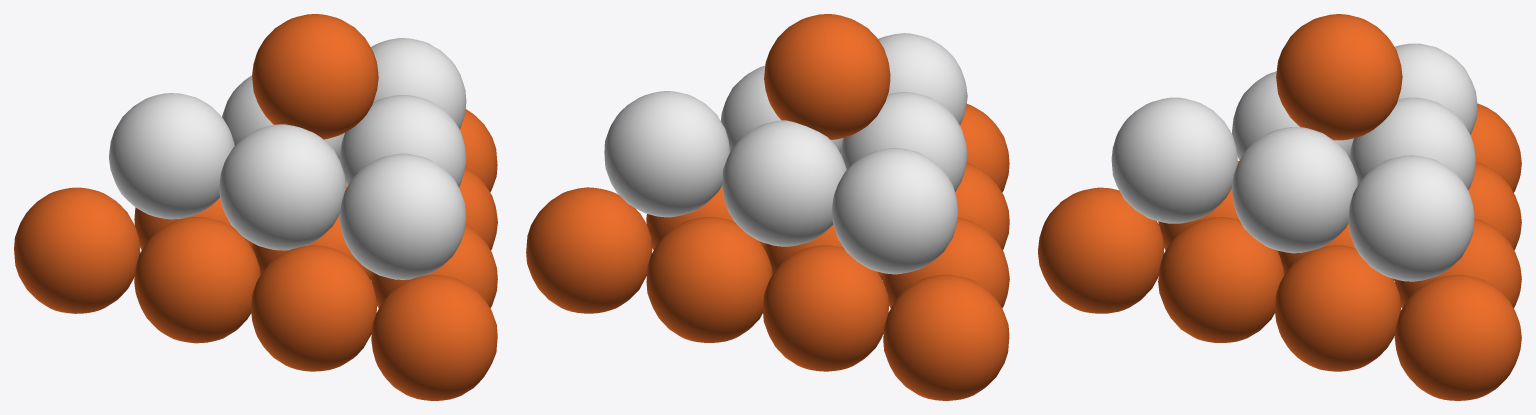
Rendered from estructura hexagonal compacta ABA.obj.glb.
3 views of the same model, side by side, from view 1: azimuth 30°, elevation 25°; view 2: azimuth 150°, elevation 25°; view 3: azimuth 270°, elevation 25° (orthographic).
Parts seen in each view (by area): view 1: Sphere.439_Sphere.001, Sphere.446_Sphere.001, Sphere.450_Sphere.001, Sphere.441_Sphere.001, Sphere.451_Sphere.001, Sphere.442_Sphere.001, Sphere.454_Sphere.001, Sphere.452_Sphere.001, Sphere.448_Sphere.001, Sphere.449_Sphere.001, Sphere.435_Sphere.001, Sphere.453_Sphere.001 (+4 smaller); view 2: Sphere.446_Sphere.001, Sphere.452_Sphere.001, Sphere.443_Sphere.001, Sphere.449_Sphere.001, Sphere.445_Sphere.001, Sphere.444_Sphere.001, Sphere.454_Sphere.001, Sphere.453_Sphere.001, Sphere.451_Sphere.001, Sphere.450_Sphere.001, Sphere.442_Sphere.001, Sphere.441_Sphere.001 (+4 smaller); view 3: Sphere.443_Sphere.001, Sphere.449_Sphere.001, Sphere.450_Sphere.001, Sphere.454_Sphere.001, Sphere.448_Sphere.001, Sphere.439_Sphere.001, Sphere.438_Sphere.001, Sphere.435_Sphere.001, Sphere.453_Sphere.001, Sphere.452_Sphere.001, Sphere.444_Sphere.001, Sphere.451_Sphere.001 (+4 smaller).
Part boxes in pixels (left/top/right/bottom): Sphere.439_Sphere.001: left=371, top=274, right=497, bottom=400; Sphere.446_Sphere.001: left=14, top=187, right=140, bottom=313; Sphere.450_Sphere.001: left=339, top=153, right=466, bottom=279; Sphere.441_Sphere.001: left=251, top=245, right=376, bottom=371; Sphere.451_Sphere.001: left=219, top=124, right=345, bottom=250; Sphere.442_Sphere.001: left=134, top=217, right=260, bottom=343; Sphere.454_Sphere.001: left=252, top=14, right=378, bottom=139; Sphere.452_Sphere.001: left=109, top=93, right=234, bottom=219; Sphere.448_Sphere.001: left=339, top=95, right=466, bottom=186; Sphere.449_Sphere.001: left=371, top=38, right=466, bottom=129; Sphere.435_Sphere.001: left=371, top=224, right=497, bottom=308; Sphere.453_Sphere.001: left=222, top=75, right=344, bottom=159; Sphere.446_Sphere.001: left=883, top=274, right=1009, bottom=400; Sphere.452_Sphere.001: left=831, top=148, right=958, bottom=274; Sphere.443_Sphere.001: left=526, top=187, right=652, bottom=313; Sphere.449_Sphere.001: left=604, top=91, right=729, bottom=217; Sphere.445_Sphere.001: left=763, top=245, right=888, bottom=371; Sphere.444_Sphere.001: left=646, top=216, right=772, bottom=342; Sphere.454_Sphere.001: left=764, top=14, right=890, bottom=139; Sphere.453_Sphere.001: left=722, top=120, right=846, bottom=246; Sphere.451_Sphere.001: left=841, top=92, right=967, bottom=191; Sphere.450_Sphere.001: left=878, top=33, right=967, bottom=124; Sphere.442_Sphere.001: left=882, top=217, right=1009, bottom=308; Sphere.441_Sphere.001: left=955, top=162, right=1009, bottom=250; Sphere.443_Sphere.001: left=1394, top=274, right=1521, bottom=400; Sphere.449_Sphere.001: left=1348, top=155, right=1474, bottom=281; Sphere.450_Sphere.001: left=1111, top=97, right=1237, bottom=223; Sphere.454_Sphere.001: left=1276, top=14, right=1402, bottom=140; Sphere.448_Sphere.001: left=1232, top=127, right=1357, bottom=253; Sphere.439_Sphere.001: left=1038, top=187, right=1163, bottom=313; Sphere.438_Sphere.001: left=1274, top=245, right=1401, bottom=371; Sphere.435_Sphere.001: left=1158, top=217, right=1284, bottom=342; Sphere.453_Sphere.001: left=1349, top=97, right=1475, bottom=189; Sphere.452_Sphere.001: left=1395, top=43, right=1477, bottom=134; Sphere.444_Sphere.001: left=1394, top=218, right=1521, bottom=308; Sphere.451_Sphere.001: left=1232, top=71, right=1353, bottom=160.
Bounding box in the file's own units: 1.65 × 0.972 × 1.48.
